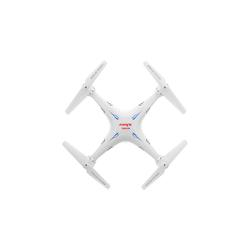drone: (59, 59, 189, 188)
